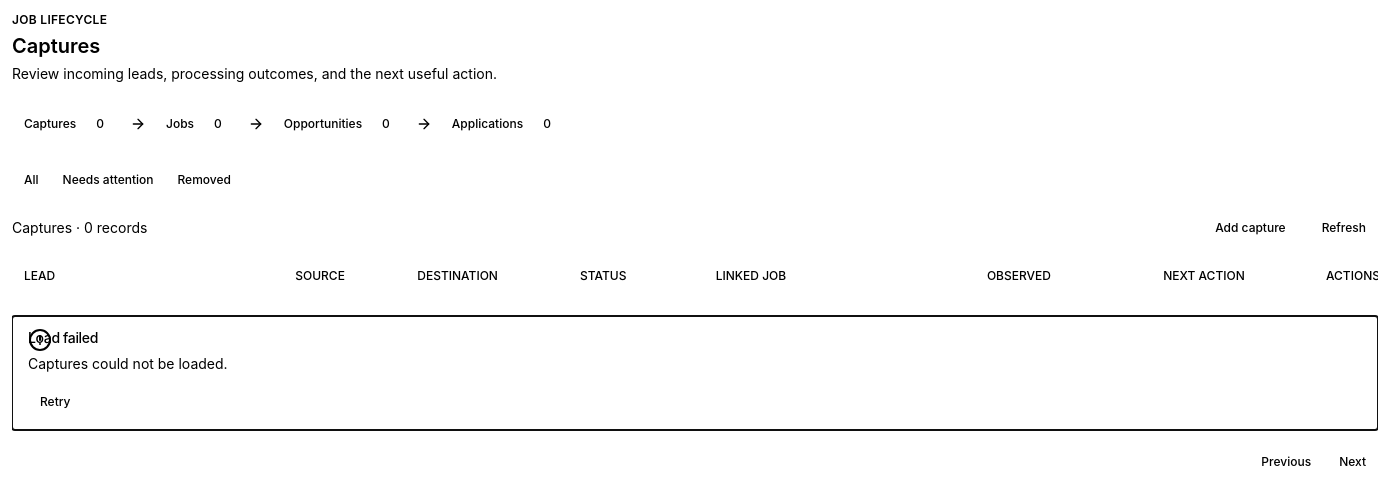
validator fix 6: nonzero-offset empty page recovery › recovers to offset 0 when a nonzero-offset page is empty but total > 0
Step 1. Click the button "Applications 0" → [504, 124], box [440, 108, 569, 140]
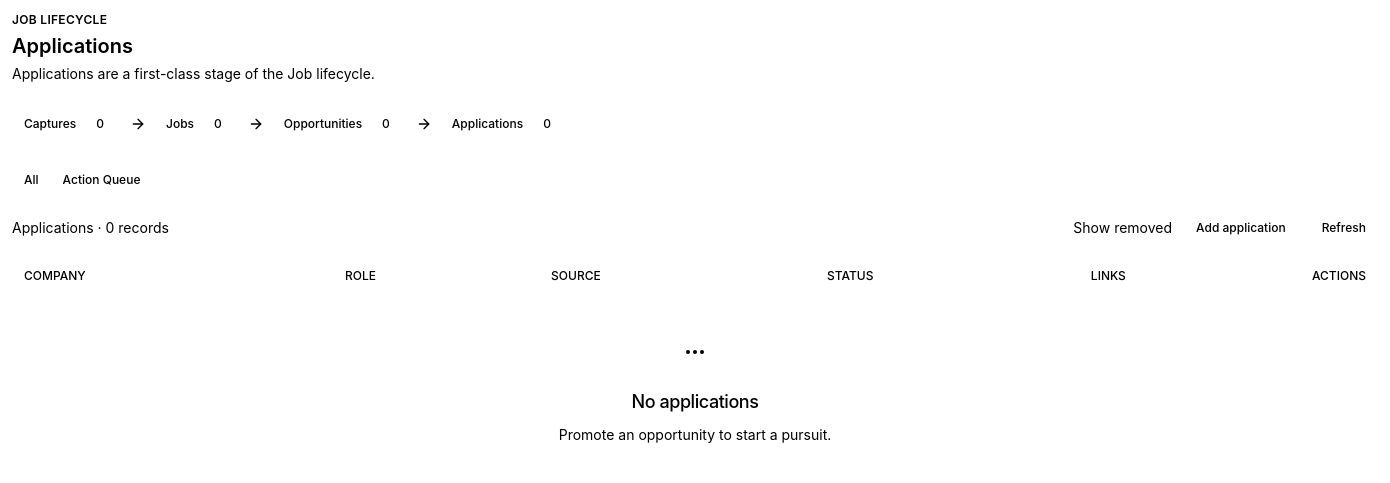
Step 2. Click the radio button labelled "Action Queue" → [102, 180], box [51, 164, 152, 196]
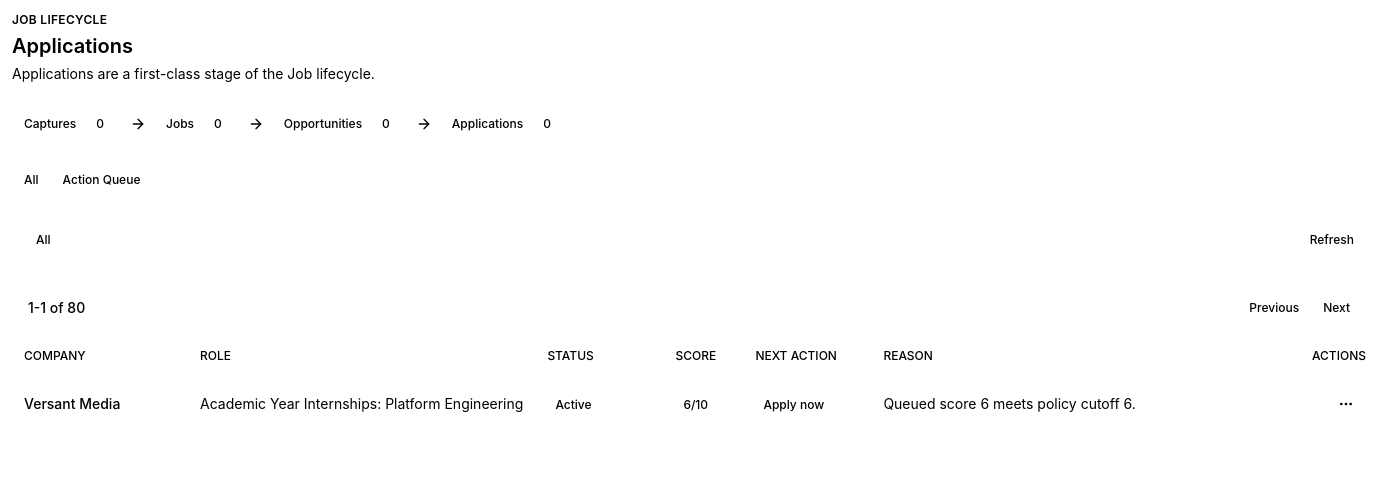
Now the table named "Action Queue" is shown, box [12, 336, 1378, 432]
Step 3. Click the button with aria-label "Next action queue page" → [1337, 308], box [1311, 292, 1362, 324]
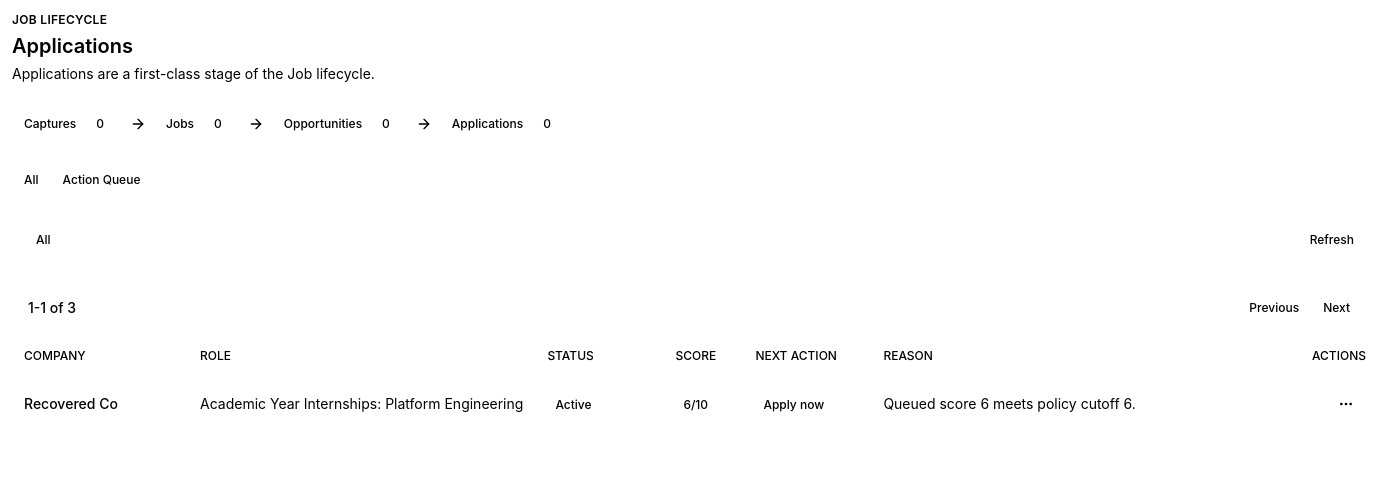
Now the text "Recovered Co" is shown, box [24, 395, 118, 412]
